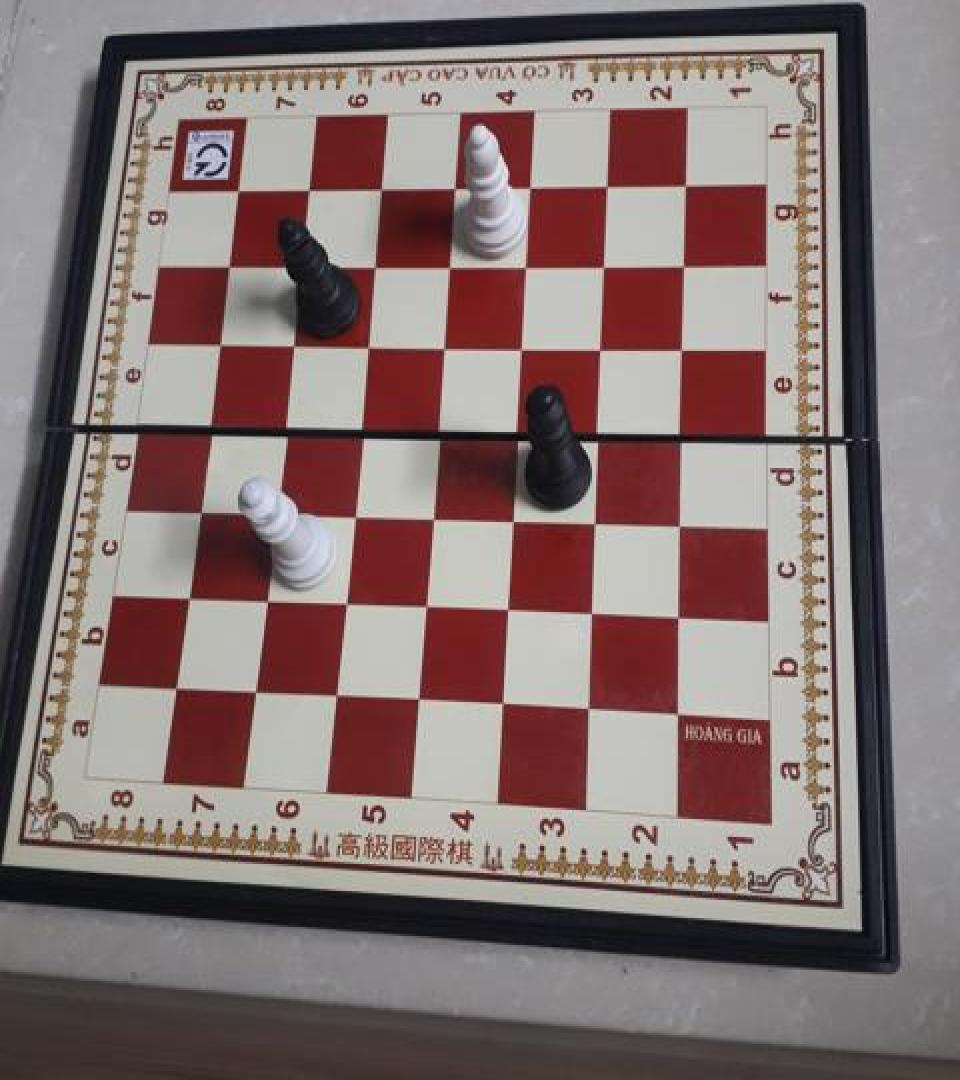xcorner: (162, 668, 190, 700), (320, 677, 348, 709), (487, 687, 515, 719), (574, 693, 602, 725), (663, 697, 691, 729), (174, 578, 202, 610), (329, 585, 357, 617), (410, 588, 438, 620), (577, 596, 605, 628), (338, 496, 366, 528), (417, 498, 445, 530), (581, 504, 609, 536), (666, 506, 694, 538), (196, 408, 224, 440), (270, 409, 298, 441), (503, 414, 531, 446), (584, 415, 612, 447), (668, 417, 696, 449), (207, 328, 235, 360), (217, 252, 245, 284), (288, 252, 316, 284), (369, 175, 397, 207), (442, 174, 470, 206), (517, 173, 545, 205), (594, 172, 622, 204), (240, 673, 268, 704), (403, 683, 431, 714), (250, 582, 278, 613), (493, 593, 521, 624), (664, 600, 692, 631), (185, 492, 213, 523), (261, 494, 289, 525), (498, 502, 526, 533), (346, 412, 374, 443), (424, 413, 452, 444), (280, 330, 308, 361), (354, 330, 382, 361), (430, 330, 458, 361), (508, 331, 536, 362), (588, 331, 616, 362), (669, 332, 697, 363), (362, 251, 390, 282), (436, 251, 464, 282), (513, 250, 541, 281), (591, 250, 619, 281), (671, 250, 699, 281), (227, 178, 255, 209), (297, 177, 325, 208), (672, 170, 700, 201)
